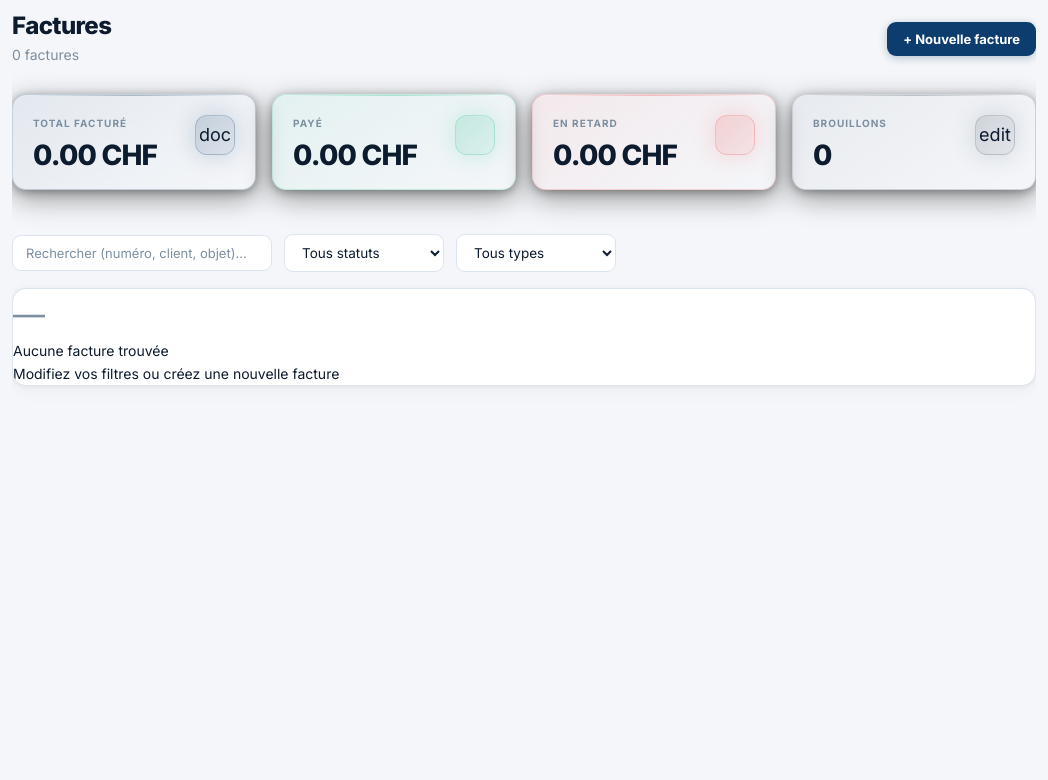
Test: Factures — calcul TTC 8.1% (via sauvegarder) › updateLigne via interaction UI recalcule TTC en temps réel
// Ouvrir le formulaire
Click the button "+ Nouvelle facture": (962, 39) [887,22,1036,56]
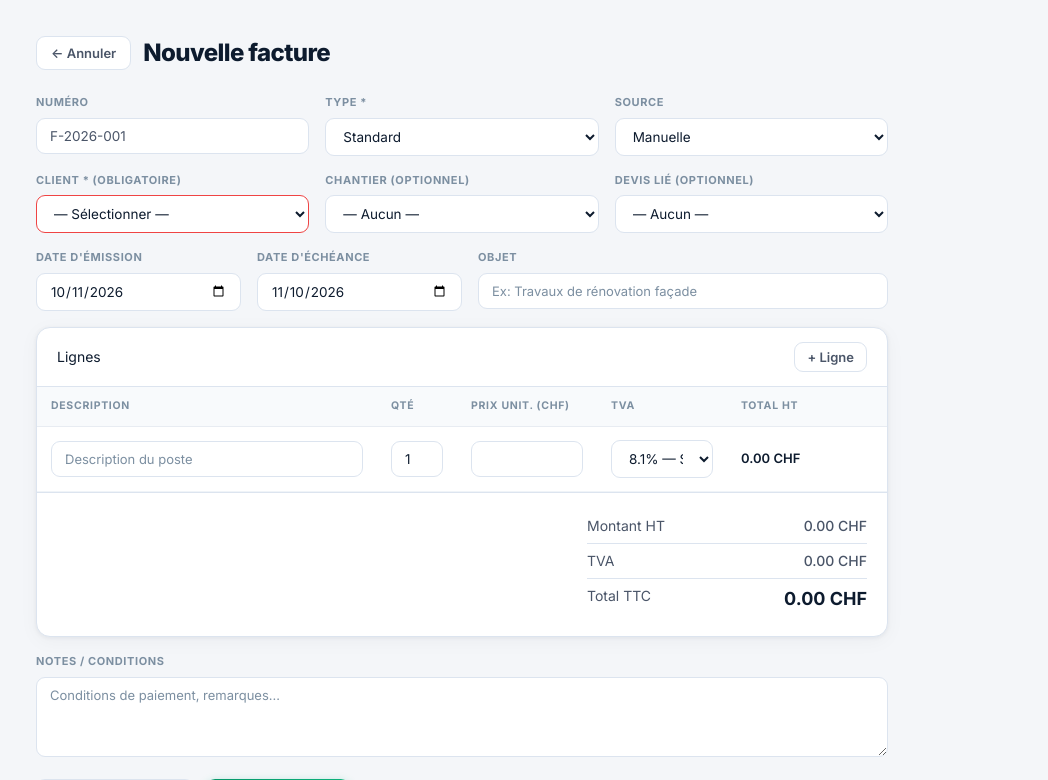
Now the text "0.00 CHF" is shown, box [727,426,847,491]
In the field below "Qté": (527, 459) [471,441,583,477], type "1000"
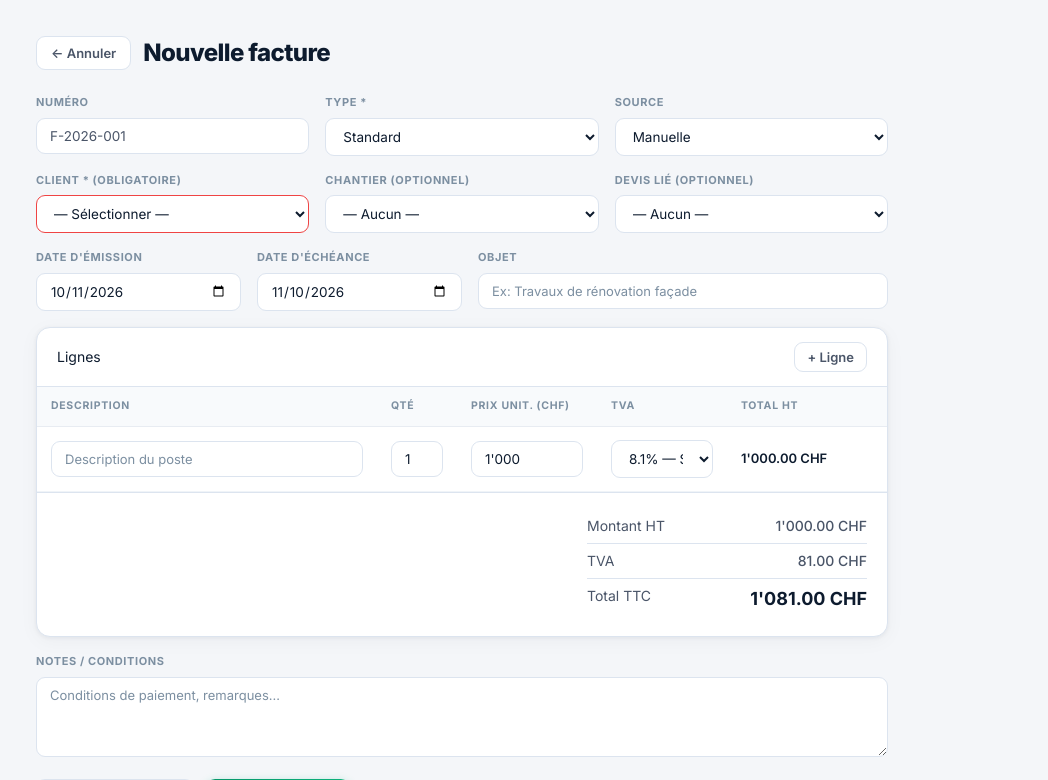
Now the text "1'081.00 CHF" is shown, box [750,585,867,614]
